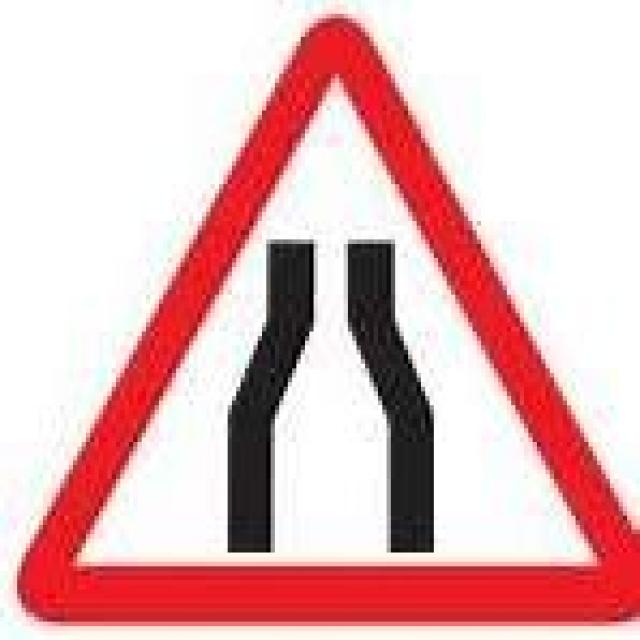NARROW_ROAD_AHEAD: (17, 10, 636, 612)
